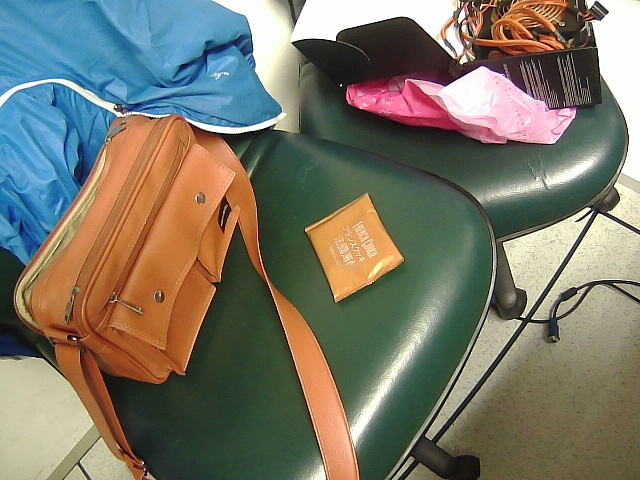frenchcookie: (301, 188, 418, 312)
